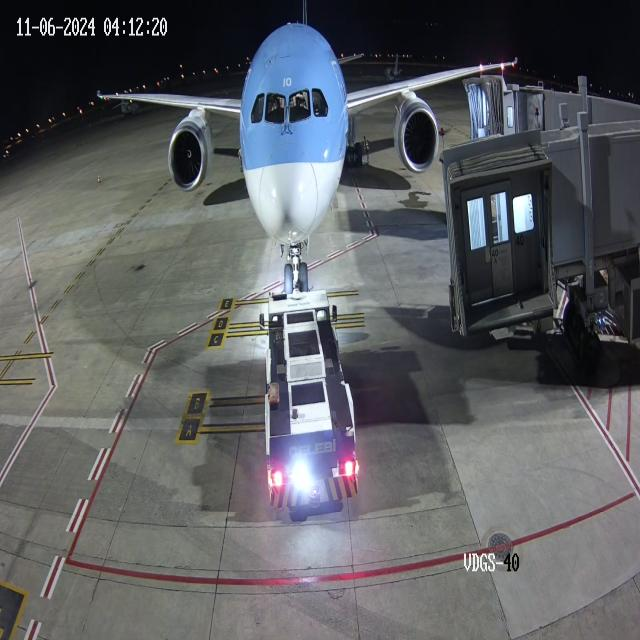bridge: (488, 73, 544, 137)
plane: (82, 5, 440, 287)
window: (247, 77, 334, 136)
